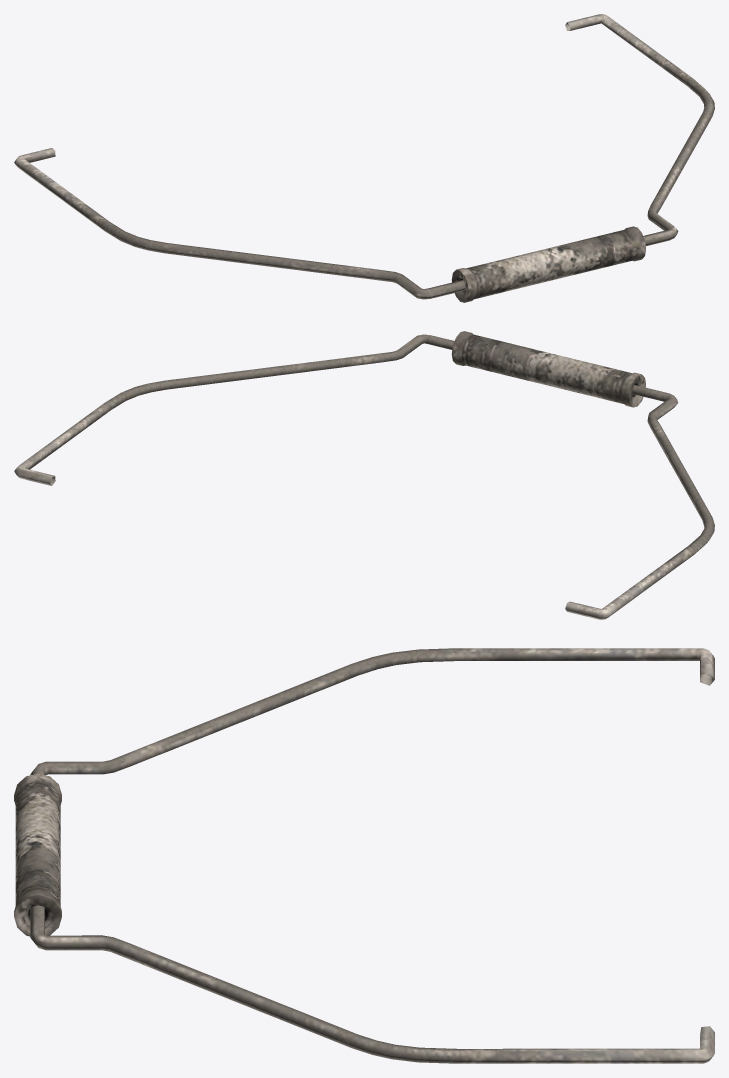
The model's file is paintBucketHandle.FBX.
3 renders of one model, top to bottom at view 1: azimuth 30°, elevation 25°; view 2: azimuth 150°, elevation 25°; view 3: azimuth 270°, elevation 25°, orthographic. The views are drawn at different scales.
Visible parts, largest first — view 1: SM_PaintBucketHandle01; view 2: SM_PaintBucketHandle01; view 3: SM_PaintBucketHandle01.
Boxes of the visible parts, <box> form: SM_PaintBucketHandle01: <box>14,14,714,302</box>; SM_PaintBucketHandle01: <box>14,331,714,619</box>; SM_PaintBucketHandle01: <box>14,648,714,1063</box>.
Size of the model in its own units: 36.02 by 1.8 by 26.18.
Materials: 1 (1 with a texture image).
